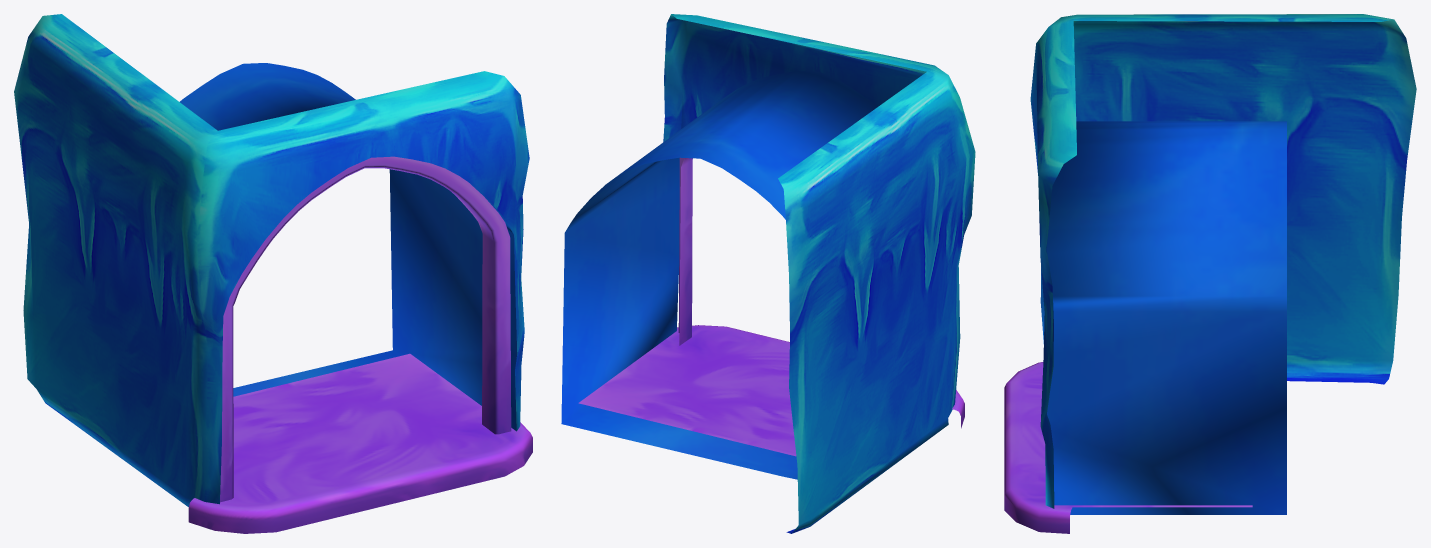
Rendered from IceCubeDoorEnter.fbx.
3 views of the same model, side by side, from view 1: azimuth 30°, elevation 25°; view 2: azimuth 150°, elevation 25°; view 3: azimuth 270°, elevation 25° (orthographic). The views are drawn at different scales.
Visible parts, largest first — view 1: ice_cube_door_enter; view 2: ice_cube_door_enter; view 3: ice_cube_door_enter.
Part boxes in pixels (x1,y1,x2,y2): ice_cube_door_enter: (14, 14, 532, 533); ice_cube_door_enter: (561, 14, 975, 533); ice_cube_door_enter: (1004, 14, 1416, 533).
Bounding box in the file's own units: 99.99 × 107 × 108.
